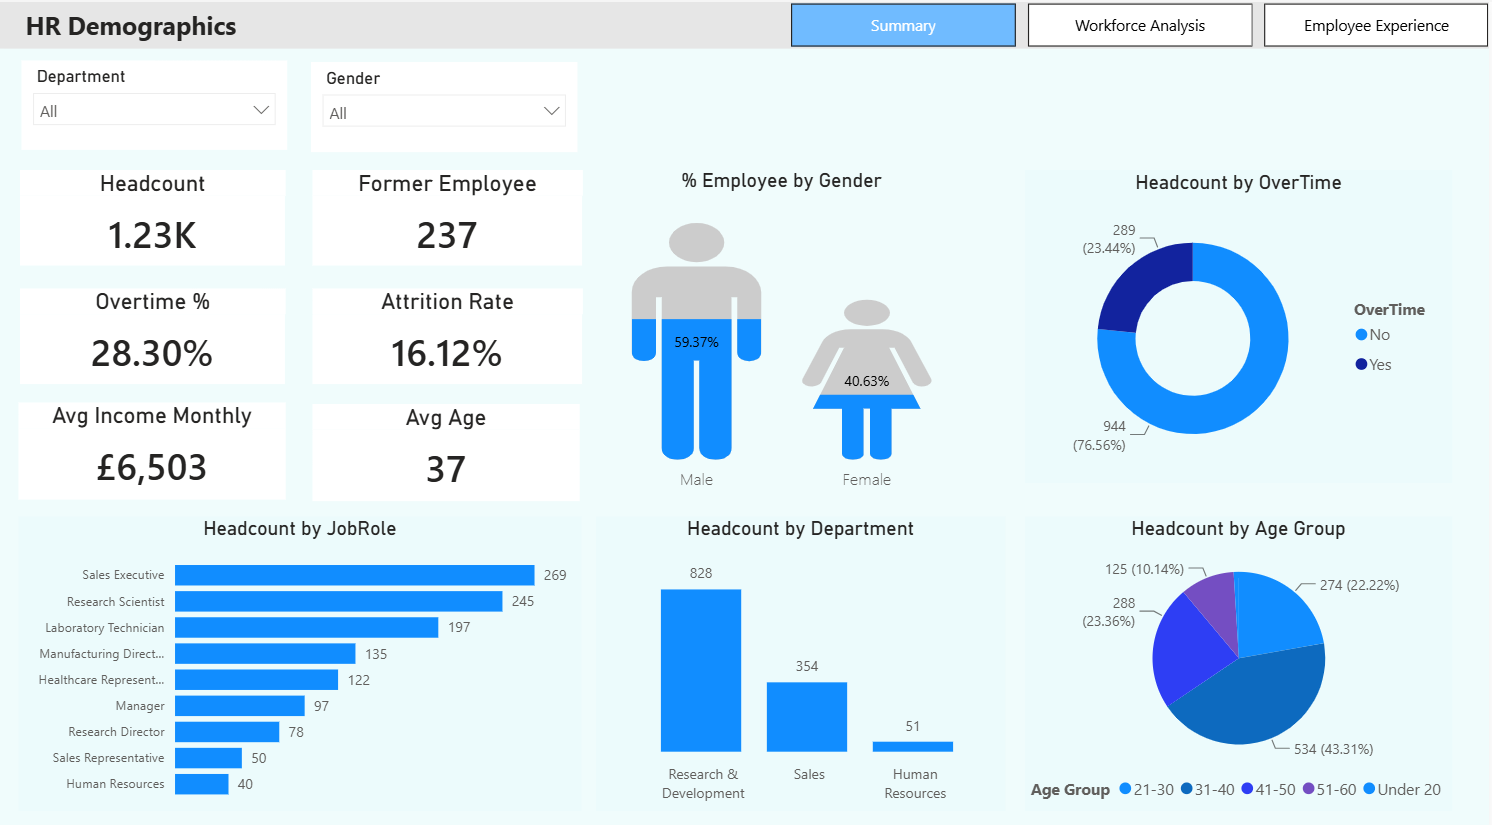

What the dashboard file says about the page in this screenshot:
{"tool":"powerbi","page":{"name":"Summary","canvas":[1280,720],"ordinal":0},"visuals":[{"type":"cardVisual","title":"Headcount","fields":{"Data":["CountNonNull(Attrition IBM.EmployeeCount)"]},"box":[17.8,143.7,227.8,82.3],"z":0},{"type":"cardVisual","title":"Attrition Rate","fields":{"Data":["Attrition IBM.Attrition Rate"]},"box":[269,245.3,231.9,82.3],"z":1000},{"type":"cardVisual","title":"Avg Income Monthly","fields":{"Data":["Attrition IBM.Avg Monthly Income"]},"box":[16.5,344.1,229.2,83.7],"z":2000},{"type":"cardVisual","title":"Avg Age","fields":{"Data":["Attrition IBM.Avg Age"]},"box":[269,345.5,229.2,83.7],"z":3000},{"type":"cardVisual","title":"Overtime %","fields":{"Data":["Attrition IBM.Overtime %"]},"box":[17.8,245.3,227.8,82.3],"z":4000},{"type":"cardVisual","title":"Former Employee","fields":{"Data":["CountNonNull(Attrition IBM.EmployeeCount)"]},"box":[269,143.7,231.9,82.3],"z":5000},{"type":"slicer","fields":{"Values":["Attrition IBM.Department"]},"box":[19.2,50.8,227.8,76.9],"z":6000},{"type":"clusteredColumnChart","fields":{"Category":["Attrition IBM.Department"],"Y":["CountNonNull(Attrition IBM.EmployeeCount)"]},"box":[511.9,441.9,351.3,252.5],"z":7000},{"type":"clusteredBarChart","fields":{"Category":["Attrition IBM.JobRole"],"Y":["CountNonNull(Attrition IBM.EmployeeCount)"]},"box":[16.5,441.9,483.1,252.5],"z":8000},{"type":"actionButton","box":[0,0,100,40],"z":9000},{"type":"donutChart","fields":{"Category":["Attrition IBM.OverTime"],"Y":["CountNonNull(Attrition IBM.EmployeeCount)"]},"box":[881,144.1,366.4,269],"z":10000},{"type":"PBI_CV_73744D90_4DC9_4F18_8BA5_EE8FA5C98035","fields":{"Category":["Attrition IBM.Gender"],"Values":["Sum(Attrition IBM.EmployeeCount)"]},"box":[511.9,142.7,318.4,285.4],"z":11000},{"type":"pieChart","fields":{"Category":["Attrition IBM.Age Group"],"Y":["CountNonNull(Attrition IBM.EmployeeCount)"]},"box":[881,441.9,366.4,252.5],"z":12000},{"type":"shape","box":[0,0,1280.4,39.8],"z":13000},{"type":"textbox","box":[0,0,1280.4,39.8],"z":14000},{"type":"slicer","fields":{"Values":["Attrition IBM.Gender"]},"box":[268,51.5,228.6,77.2],"z":15000},{"type":"pageNavigator","box":[679.9,1.5,599.6,37.9],"z":16000}]}

Visuals, with their boxes in screenshot pixels (x1, y1, x2, y2), scaled from the page's 1280x720 canvas onto the 1492x825 screenshot:
"Headcount" cardVisual: (x1=21, y1=165, x2=286, y2=259)
"Attrition Rate" cardVisual: (x1=314, y1=281, x2=584, y2=375)
"Avg Income Monthly" cardVisual: (x1=19, y1=394, x2=286, y2=490)
"Avg Age" cardVisual: (x1=314, y1=396, x2=581, y2=492)
"Overtime %" cardVisual: (x1=21, y1=281, x2=286, y2=375)
"Former Employee" cardVisual: (x1=314, y1=165, x2=584, y2=259)
slicer - Attrition IBM.Department: (x1=22, y1=58, x2=288, y2=146)
clusteredColumnChart - Attrition IBM.Department x CountNonNull(Attrition IBM.EmployeeCount): (x1=597, y1=506, x2=1006, y2=796)
clusteredBarChart - Attrition IBM.JobRole x CountNonNull(Attrition IBM.EmployeeCount): (x1=19, y1=506, x2=582, y2=796)
actionButton: (x1=0, y1=0, x2=117, y2=46)
donutChart - Attrition IBM.OverTime x CountNonNull(Attrition IBM.EmployeeCount): (x1=1027, y1=165, x2=1454, y2=473)
PBI_CV_73744D90_4DC9_4F18_8BA5_EE8FA5C98035 - Attrition IBM.Gender x Sum(Attrition IBM.EmployeeCount): (x1=597, y1=164, x2=968, y2=491)
pieChart - Attrition IBM.Age Group x CountNonNull(Attrition IBM.EmployeeCount): (x1=1027, y1=506, x2=1454, y2=796)
shape: (x1=0, y1=0, x2=1491, y2=46)
textbox: (x1=0, y1=0, x2=1491, y2=46)
slicer - Attrition IBM.Gender: (x1=312, y1=59, x2=579, y2=147)
pageNavigator: (x1=793, y1=2, x2=1491, y2=45)
